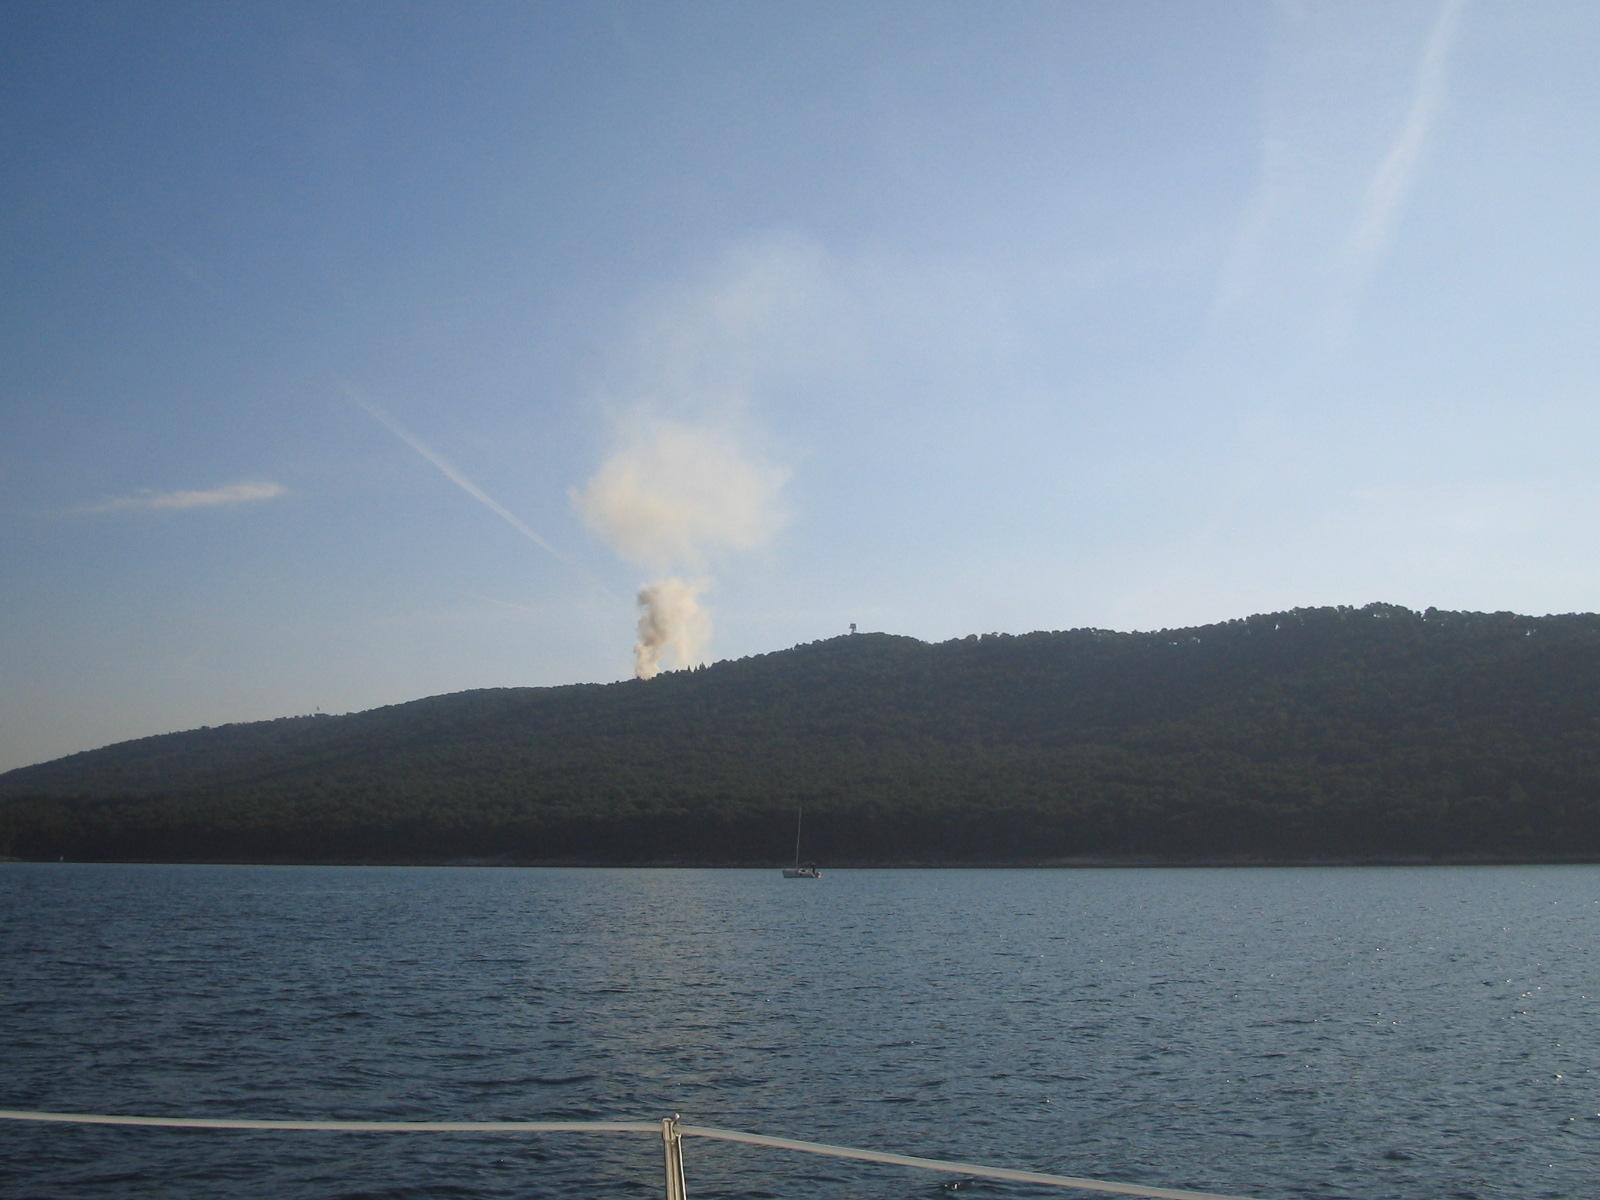Smoke: (572, 233, 819, 678)
